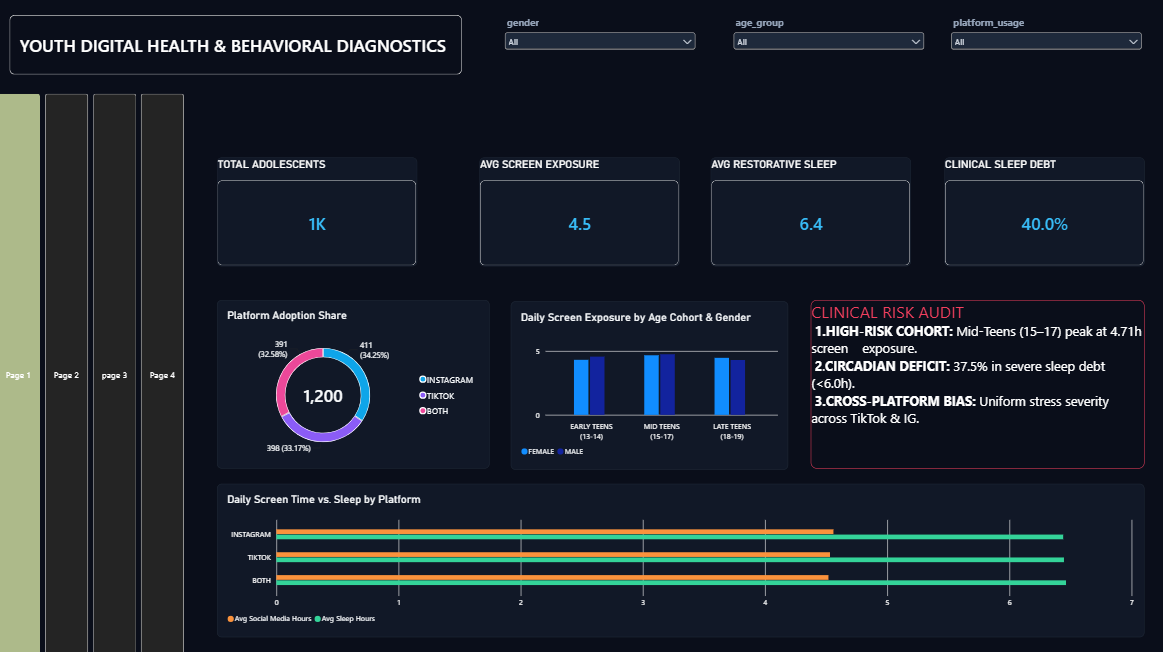

Layout of this report page (visuals, bound fields, positions):
{"tool":"powerbi","page":{"name":"Page 1","canvas":[1920,1080],"ordinal":0},"visuals":[{"type":"cardVisual","fields":{"Data":["Age Group Dim.page 1"]},"box":[20.6,24.7,745.1,98.8],"z":0},{"type":"slicer","fields":{"Values":["Gender Dim.gender"]},"box":[831.6,24.7,323.2,129.7],"z":1000},{"type":"slicer","fields":{"Values":["Age Group Dim.age_group"]},"box":[1208.2,24.7,323.2,129.7],"z":2000},{"type":"slicer","fields":{"Values":["Platform Dim.platform_usage"]},"box":[1566.4,24.7,323.2,129.7],"z":3000},{"type":"cardVisual","title":"TOTAL ADOLESCENTS","fields":{"Data":["fact.Total Teens"]},"box":[362.3,259.3,329.3,179.1],"z":4000},{"type":"cardVisual","title":"AVG SCREEN EXPOSURE","fields":{"Data":["fact.Avg Social Media Hours"]},"box":[794.5,259.3,329.3,179.1],"z":5000},{"type":"cardVisual","title":"CLINICAL SLEEP DEBT","fields":{"Data":["fact.Sleep Debt %"]},"box":[1560.2,259.3,329.3,179.1],"z":6000},{"type":"cardVisual","title":"AVG RESTORATIVE SLEEP","fields":{"Data":["fact.Avg Sleep Hours"]},"box":[1175.3,259.3,329.3,179.1],"z":7000},{"type":"donutChart","title":"Platform Adoption Share","fields":{"Category":["Platform Dim.platform_usage"],"Y":["fact.Total Teens"]},"box":[362.3,494,448.7,277.9],"z":8000},{"type":"clusteredColumnChart","title":"Daily Screen Exposure by Age Cohort & Gender","fields":{"Series":["Gender Dim.gender"],"Category":["Age Group Dim.age_group"],"Y":["fact.Avg Social Media Hours"]},"box":[846,496.1,456.9,277.9],"z":9000},{"type":"textbox","box":[1340,494,549.6,277.9],"z":10000},{"type":"clusteredBarChart","title":"Daily Screen Time vs. Sleep by Platform","fields":{"Category":["Platform Dim.platform_usage"],"Y":["fact.Avg Social Media Hours","fact.Avg Sleep Hours"]},"box":[362.3,796.6,1527.3,253.2],"z":11000},{"type":"pageNavigator","box":[0,154.4,308.7,926.2],"z":12000}]}

Visuals, with their boxes on the page's 1920x1080 design canvas (x1, y1, x2, y2). These are canvas units, not pixel positions in the 1163x652 screenshot, which may show the page scaled, cropped or inside an application window:
cardVisual - Age Group Dim.page 1: [x1=21, y1=25, x2=766, y2=124]
slicer - Gender Dim.gender: [x1=832, y1=25, x2=1155, y2=154]
slicer - Age Group Dim.age_group: [x1=1208, y1=25, x2=1531, y2=154]
slicer - Platform Dim.platform_usage: [x1=1566, y1=25, x2=1890, y2=154]
"TOTAL ADOLESCENTS" cardVisual: [x1=362, y1=259, x2=692, y2=438]
"AVG SCREEN EXPOSURE" cardVisual: [x1=794, y1=259, x2=1124, y2=438]
"CLINICAL SLEEP DEBT" cardVisual: [x1=1560, y1=259, x2=1890, y2=438]
"AVG RESTORATIVE SLEEP" cardVisual: [x1=1175, y1=259, x2=1505, y2=438]
"Platform Adoption Share" donutChart: [x1=362, y1=494, x2=811, y2=772]
"Daily Screen Exposure by Age Cohort & Gender" clusteredColumnChart: [x1=846, y1=496, x2=1303, y2=774]
textbox: [x1=1340, y1=494, x2=1890, y2=772]
"Daily Screen Time vs. Sleep by Platform" clusteredBarChart: [x1=362, y1=797, x2=1890, y2=1050]
pageNavigator: [x1=0, y1=154, x2=309, y2=1081]
